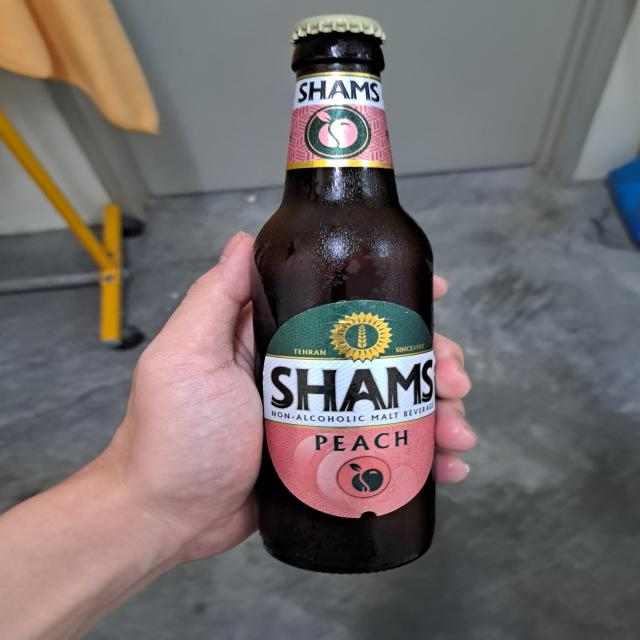glass bottle: (252, 14, 440, 575)
